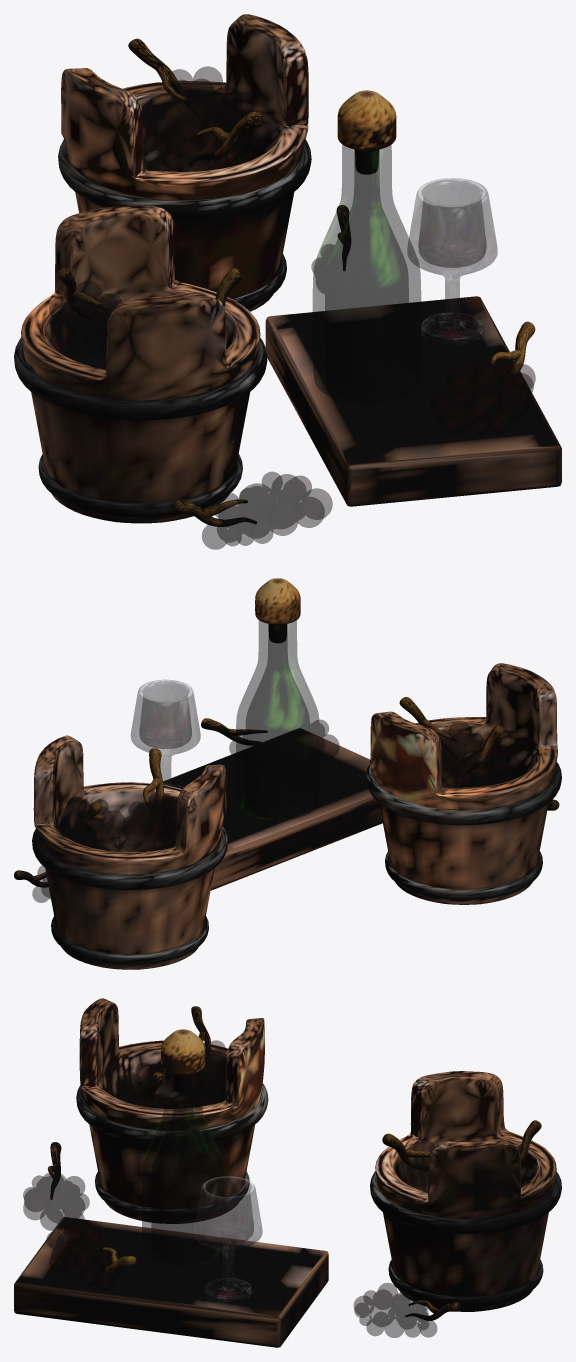
Rendered from wine.glb.
The picture shows the model from 3 angles, top to bottom: view 1: azimuth 30°, elevation 25°; view 2: azimuth 150°, elevation 25°; view 3: azimuth 270°, elevation 25°; orthographic projection. The views are drawn at different scales.
Parts seen in each view (by area): view 1: Circle.012; view 2: Circle.012; view 3: Circle.012.
Part boxes in pixels (x1,y1,x2,y2): Circle.012: (14,14,561,549); Circle.012: (14,578,561,969); Circle.012: (14,998,561,1347).
Size of the model in its own units: 9.31 by 5.83 by 11.22.
